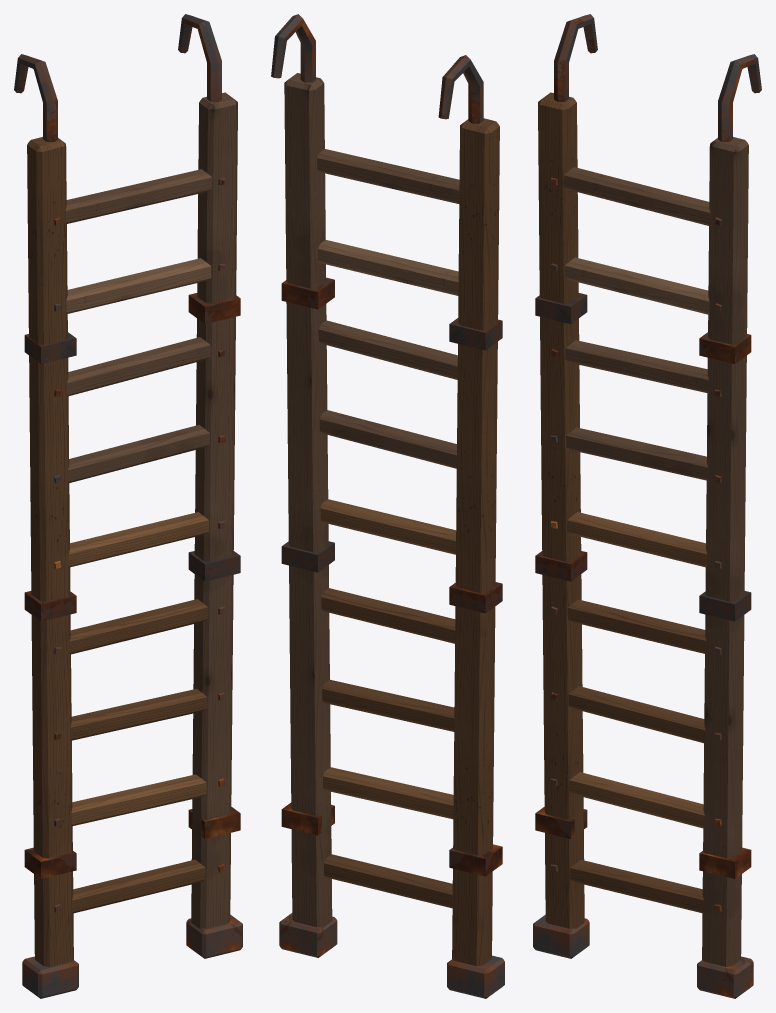
File: Ladder.glb
The picture shows the model from 3 angles, left to right: view 1: azimuth 30°, elevation 25°; view 2: azimuth 150°, elevation 25°; view 3: azimuth 330°, elevation 25°; orthographic projection. The views are drawn at different scales.
Parts seen in each view (by area): view 1: Ladder; view 2: Ladder; view 3: Ladder.
Part boxes in pixels (x1=…): Ladder: x1=14, y1=14, x2=242, y2=998; Ladder: x1=271, y1=14, x2=504, y2=998; Ladder: x1=533, y1=14, x2=761, y2=998.
Bounding box in the file's own units: 0.75 × 3.22 × 0.2755.
4 materials, 4 textured.
